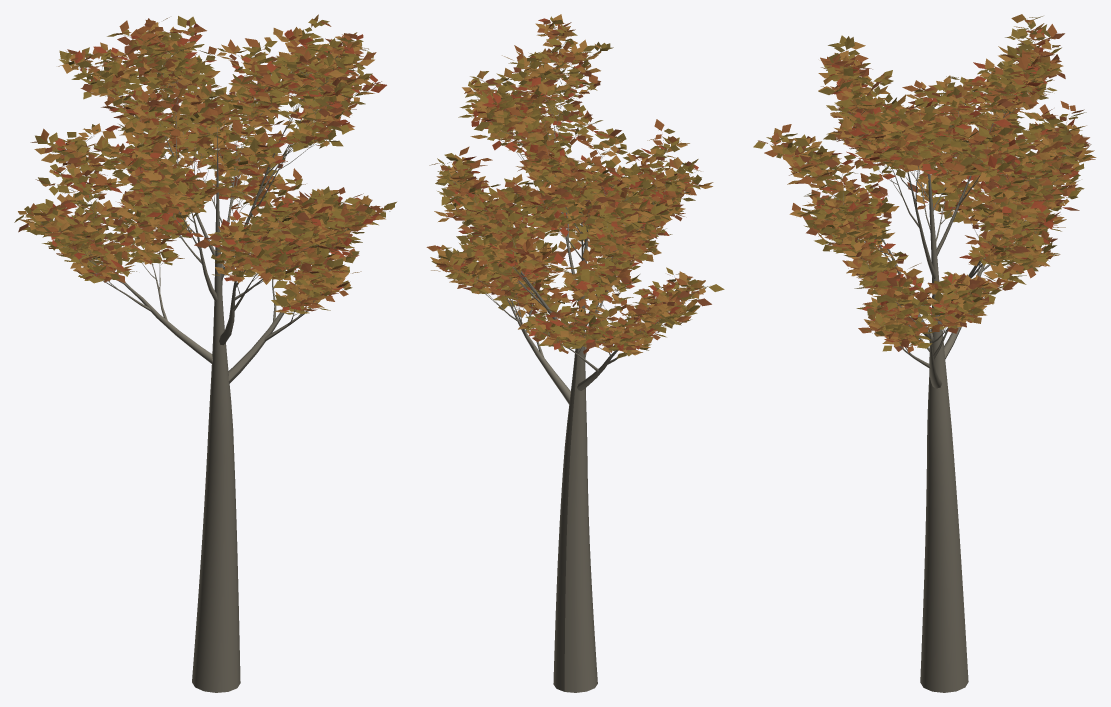
File: autumntree_04.glb
3 renders of one model, left to right at view 1: azimuth 30°, elevation 25°; view 2: azimuth 150°, elevation 25°; view 3: azimuth 270°, elevation 25°, orthographic. The views are drawn at different scales.
Visible parts, largest first — view 1: AutumnTree_04_leaf_clusters, AutumnTree_04_trunk_branches; view 2: AutumnTree_04_leaf_clusters, AutumnTree_04_trunk_branches; view 3: AutumnTree_04_leaf_clusters, AutumnTree_04_trunk_branches.
Part boxes in pixels (x1,y1,x2,y2): AutumnTree_04_leaf_clusters: (14, 14, 396, 314); AutumnTree_04_trunk_branches: (30, 27, 390, 692); AutumnTree_04_leaf_clusters: (426, 14, 724, 358); AutumnTree_04_trunk_branches: (446, 25, 697, 692); AutumnTree_04_leaf_clusters: (753, 14, 1096, 352); AutumnTree_04_trunk_branches: (772, 23, 1079, 692).
Size of the model in its own units: 3.59 by 6.81 by 3.19.
